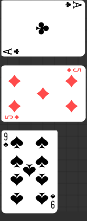9C: (3, 131, 10, 148), (50, 192, 57, 209)
AC: (64, 0, 83, 9)
